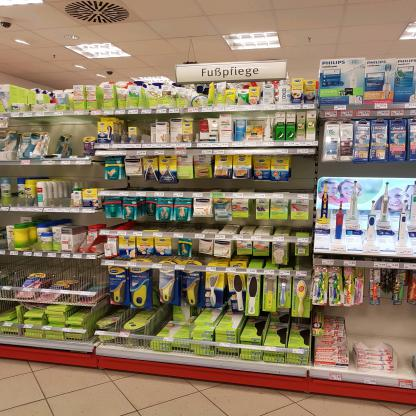Void: (351, 306, 413, 340), (294, 156, 312, 184), (52, 178, 69, 204), (74, 126, 84, 156)
